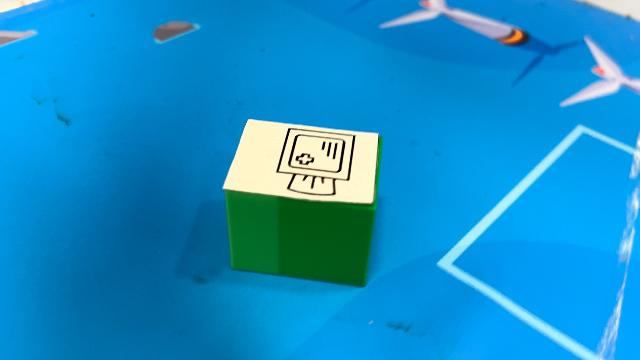napkin: (220, 116, 384, 288)
